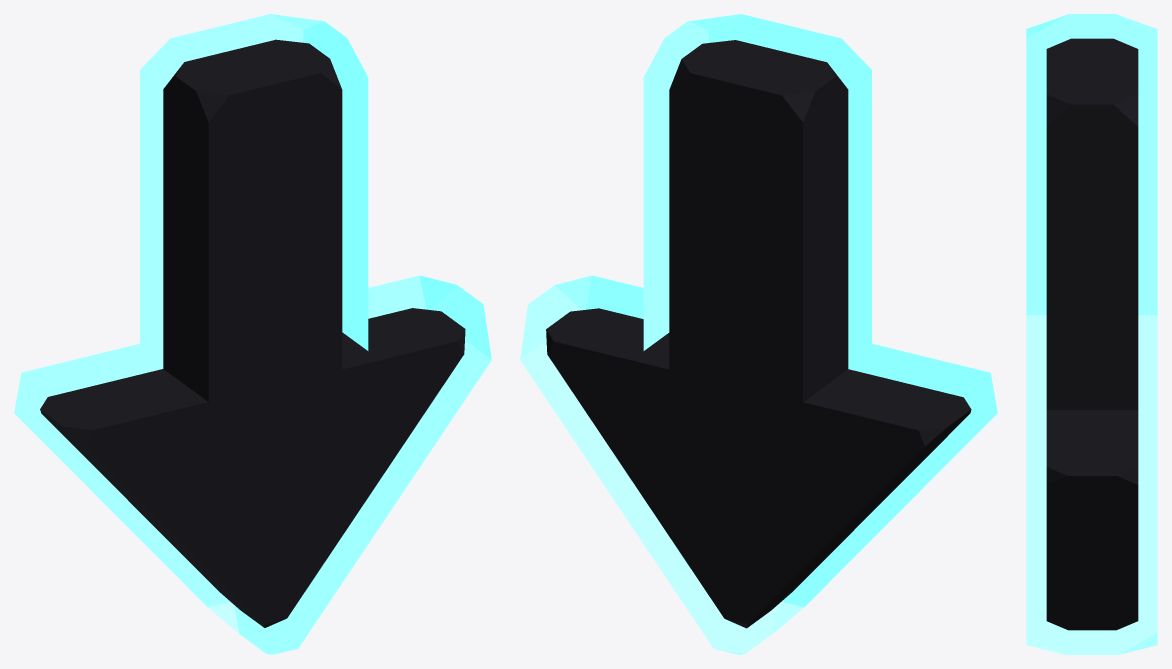
The model's file is arrow_blue.gltf.
3 views of the same model, side by side, from view 1: azimuth 30°, elevation 25°; view 2: azimuth 150°, elevation 25°; view 3: azimuth 270°, elevation 25° (orthographic).
Visible parts, largest first — view 1: Plane.026, Plane.030; view 2: Plane.026, Plane.030; view 3: Plane.026, Plane.030.
Boxes of the visible parts, x1,y1,x2,y2 form: Plane.026: (40,39,465,627); Plane.030: (14,14,491,654); Plane.026: (546,40,971,628); Plane.030: (520,14,997,654); Plane.026: (1046,38,1138,630); Plane.030: (1026,14,1157,654).
Bounding box in the file's own units: 1.12 × 1.45 × 0.2874.
2 materials, 1 textured.
